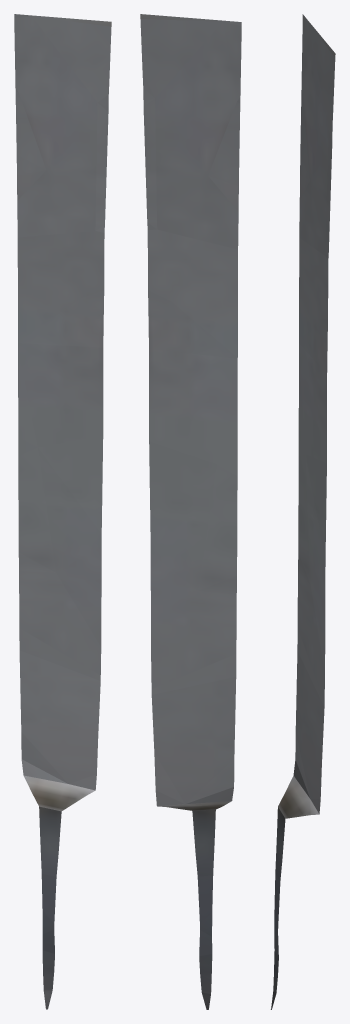
3 views of the same model, side by side, from view 1: azimuth 30°, elevation 25°; view 2: azimuth 210°, elevation 25°; view 3: azimuth 330°, elevation 25° (orthographic). The views are drawn at different scales.
Bounding box in the file's own units: 0.0707 × 1.01 × 0.0609.
Materials: 1 (1 with a texture image).
